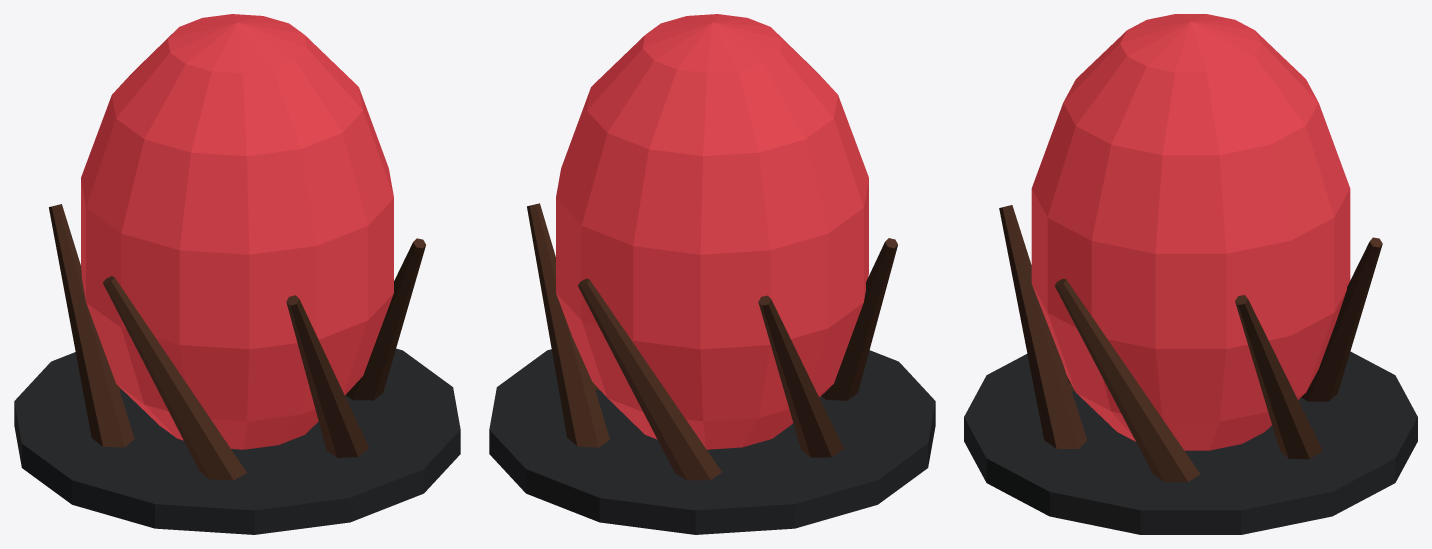
File: egg_pod.glb
3 renders of one model, left to right at view 1: azimuth 30°, elevation 25°; view 2: azimuth 150°, elevation 25°; view 3: azimuth 270°, elevation 25°, orthographic.
Visible parts, largest first — view 1: body; view 2: body; view 3: body.
Part boxes in pixels (x1,y1,x2,y2): body: (14,14,460,534); body: (489,14,935,534); body: (964,14,1417,534).
Size of the model in its own units: 0.9749 by 1.04 by 1.
3 materials, 1 textured.
